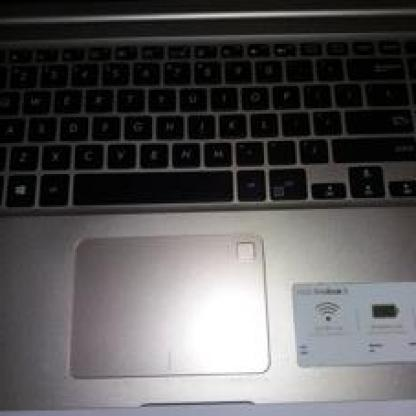keyboard: (0, 26, 414, 253)
